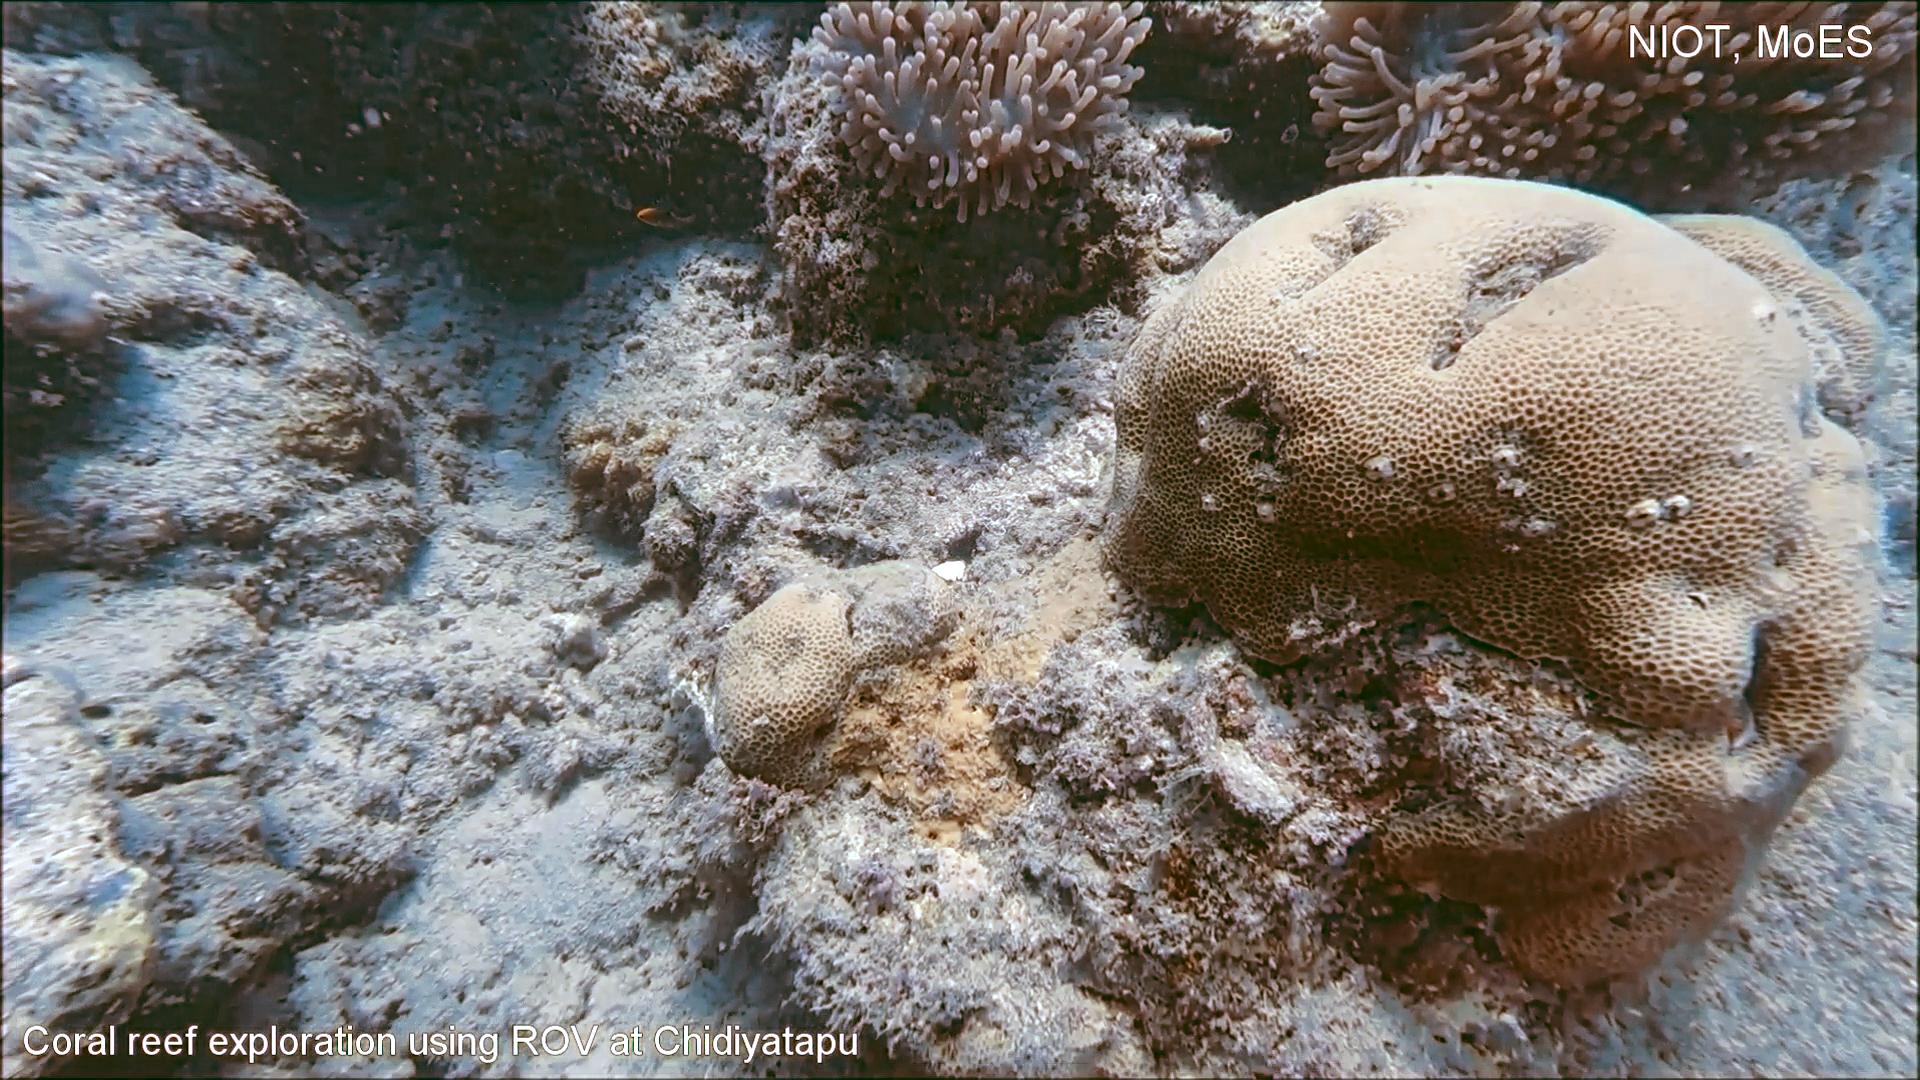Macrodactyla doreensis-Long tentacle Anemone: (1298, 0, 1920, 177), (802, 0, 1158, 229)
